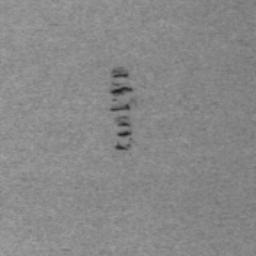Secondary rust skin: (116, 120, 132, 138), (109, 85, 134, 96), (111, 65, 129, 79), (109, 103, 131, 113), (114, 142, 132, 151)
